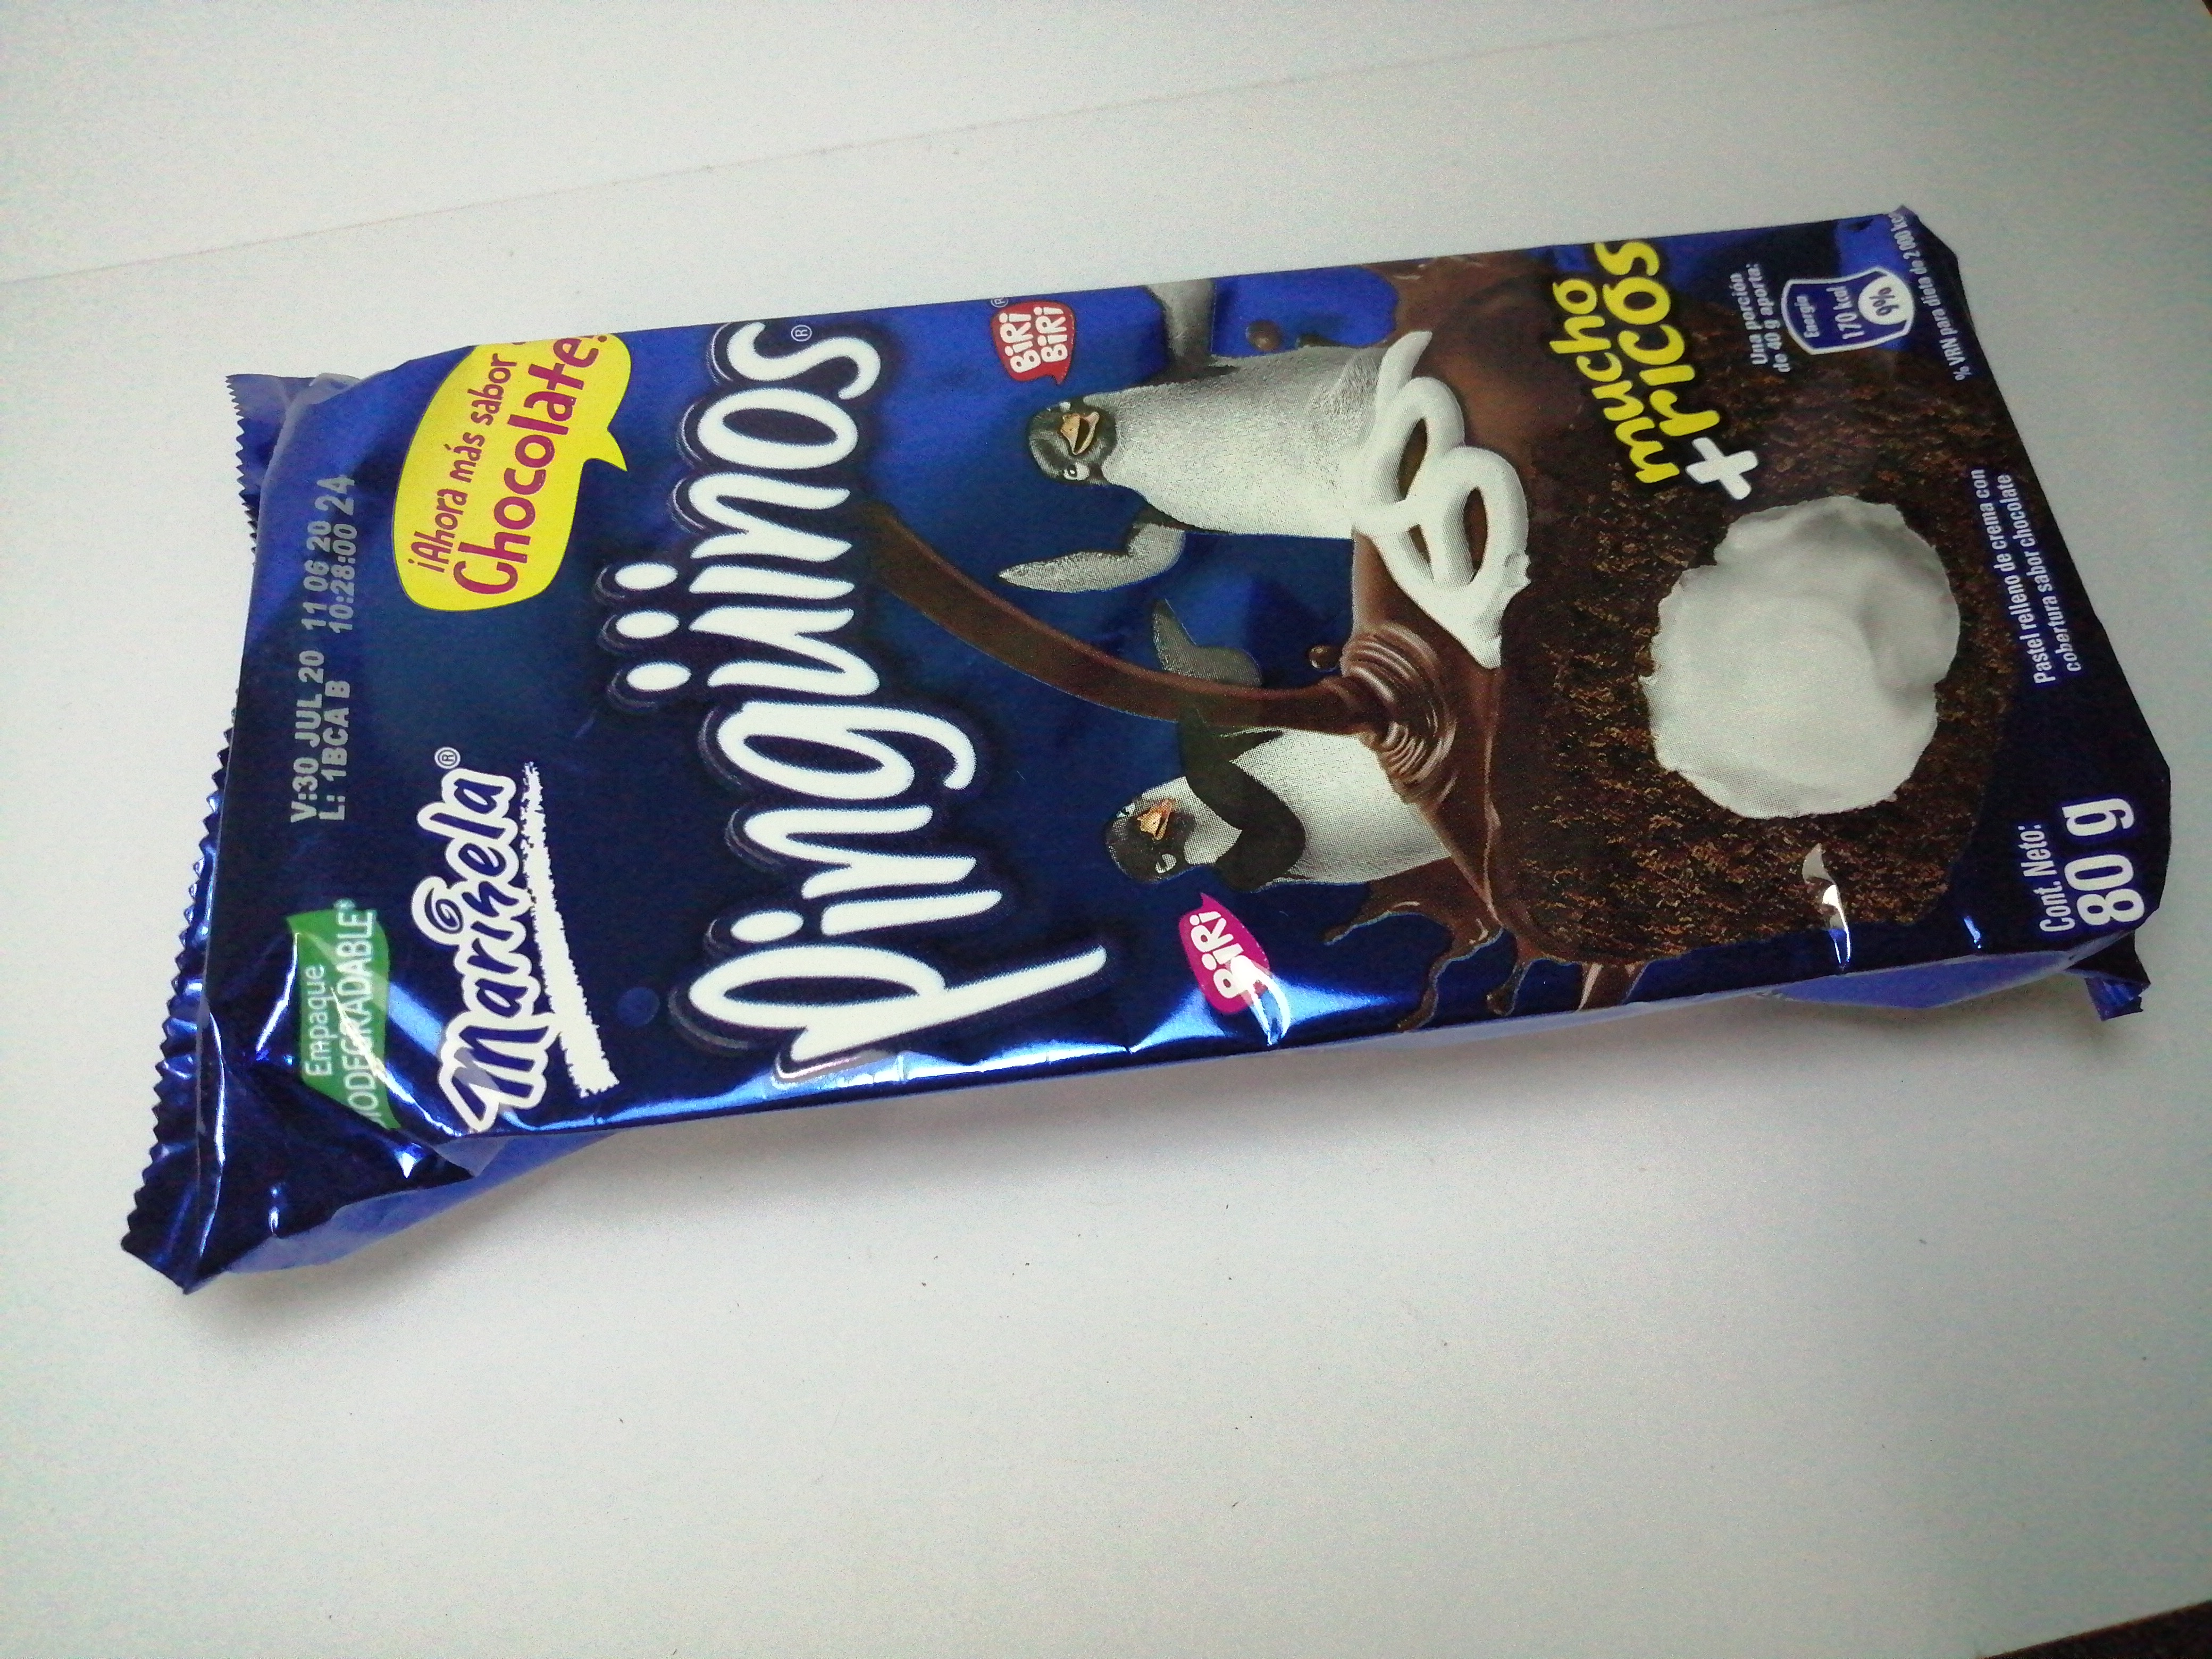pinguino: (122, 204, 2165, 1288)
